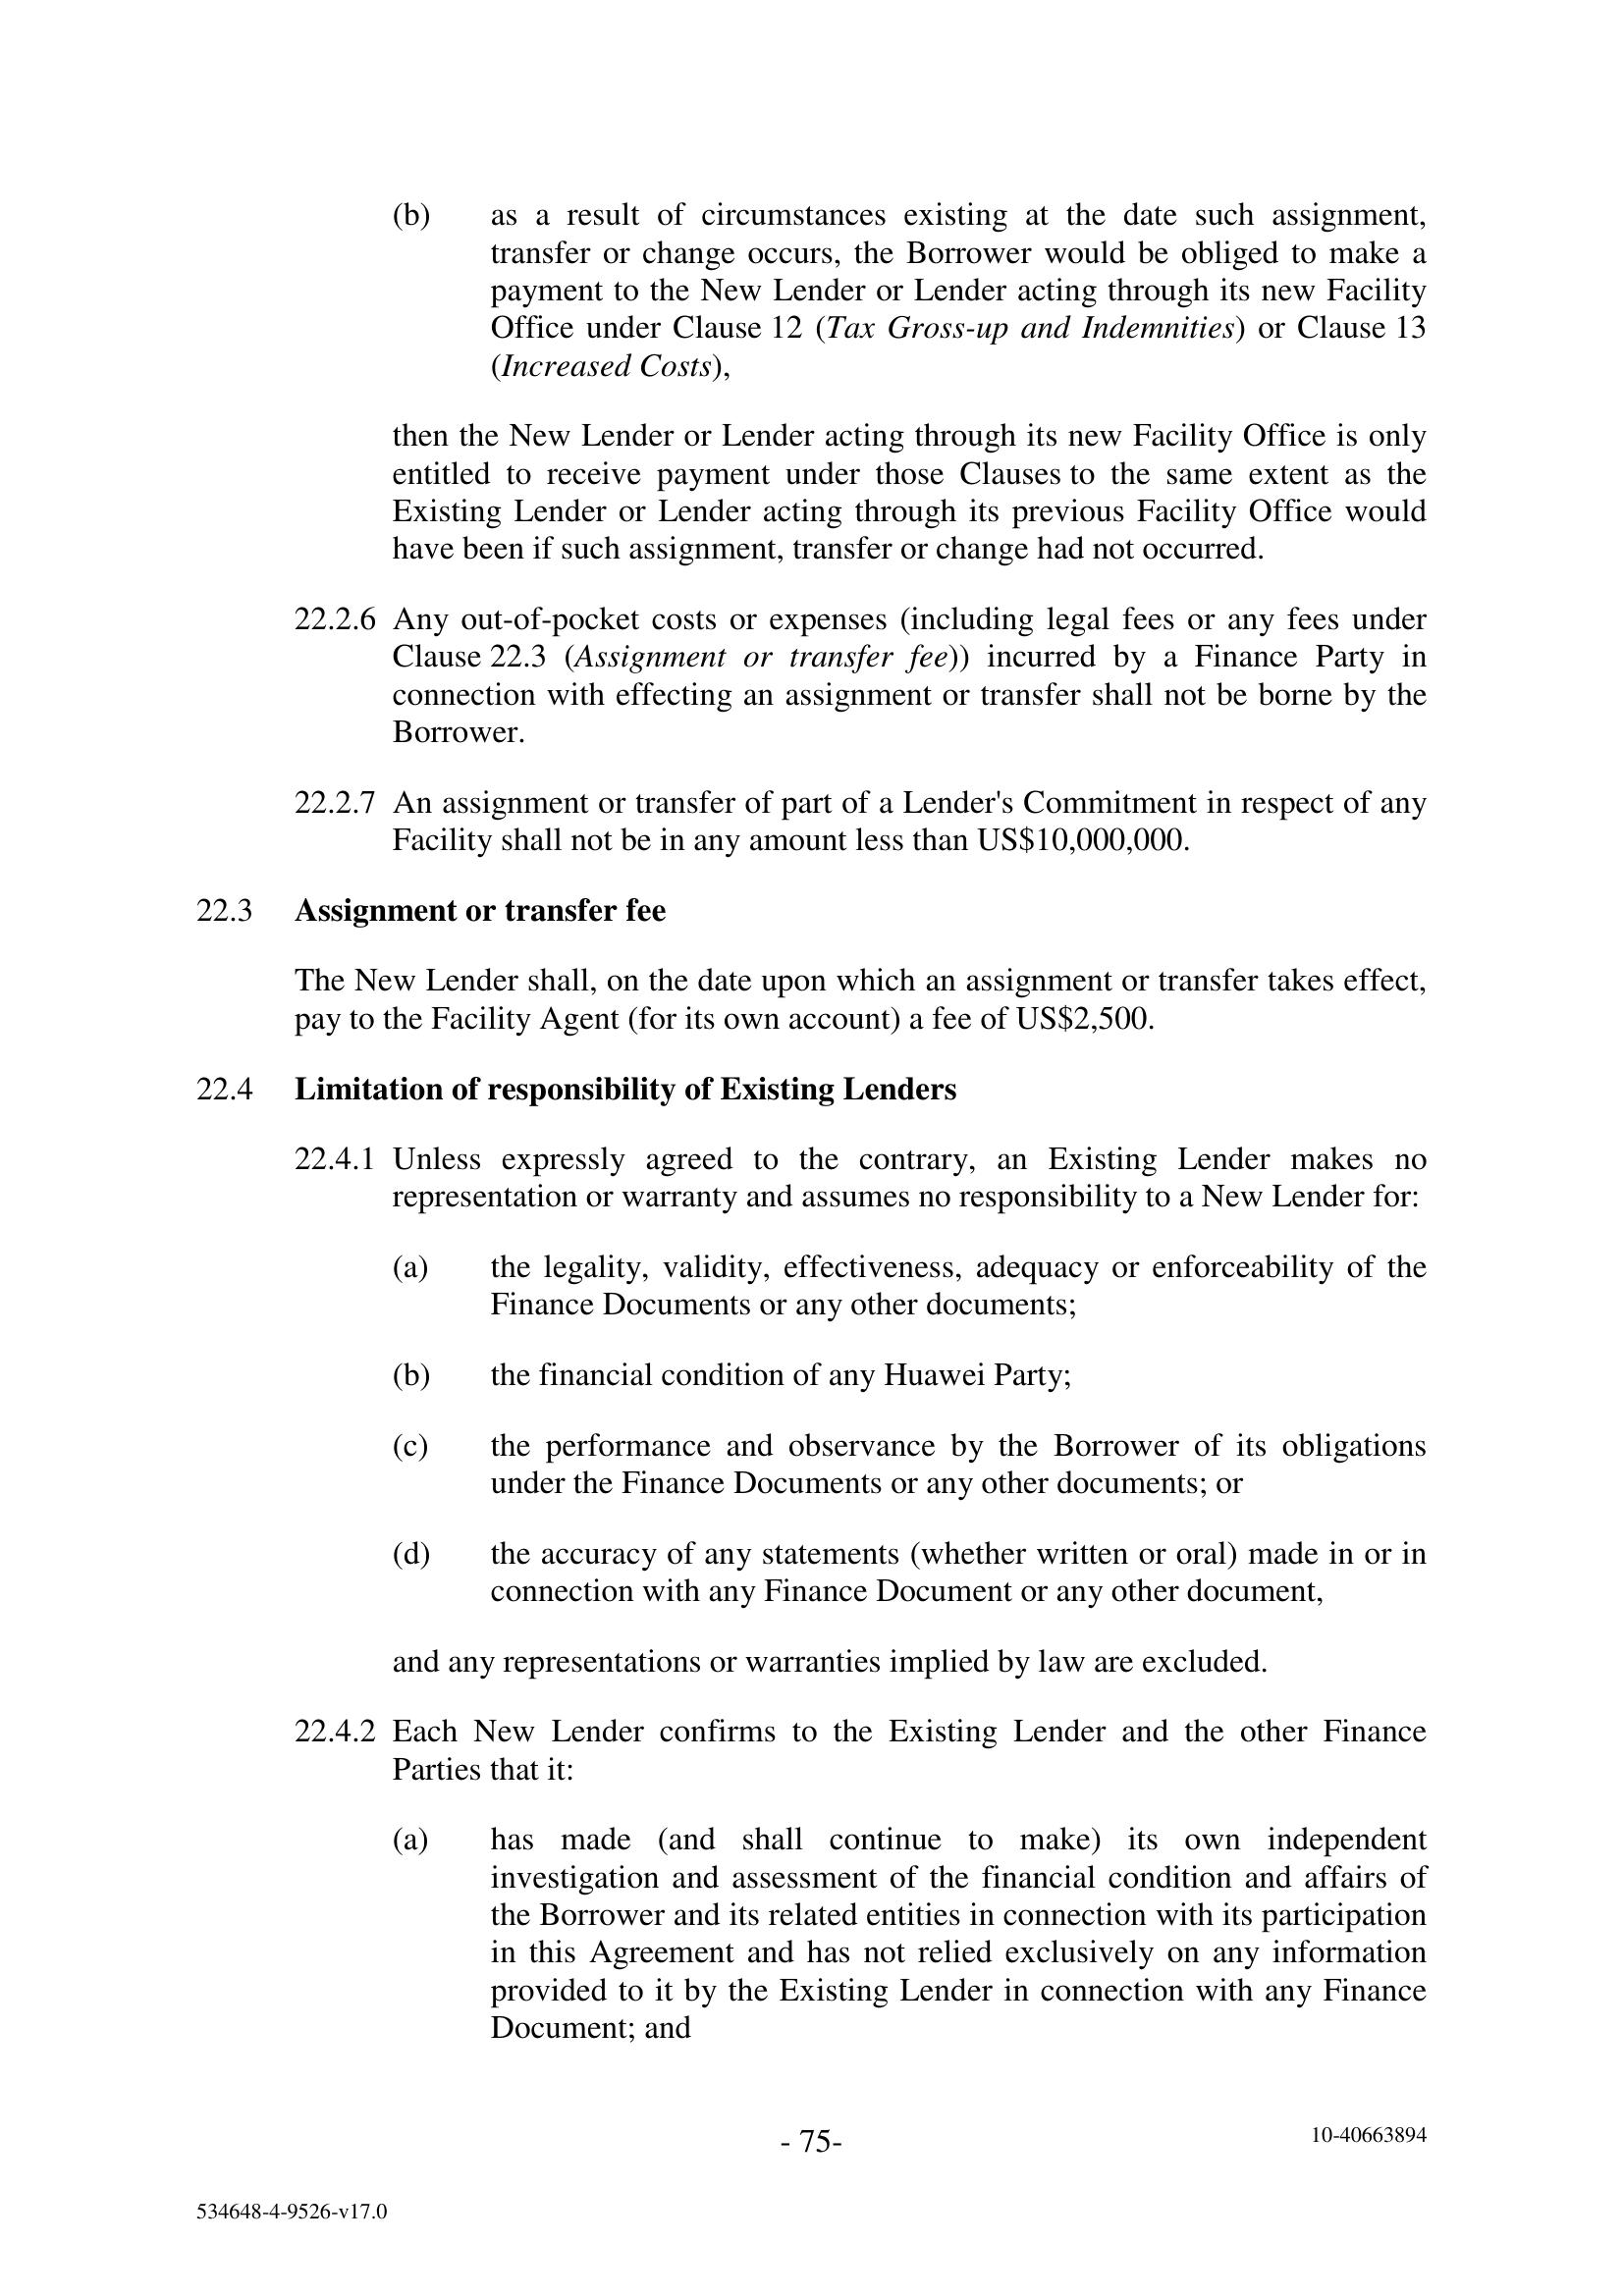pageno: (727, 2082, 903, 2217)
tag: (98, 2164, 478, 2270), (1180, 2082, 1549, 2184)
